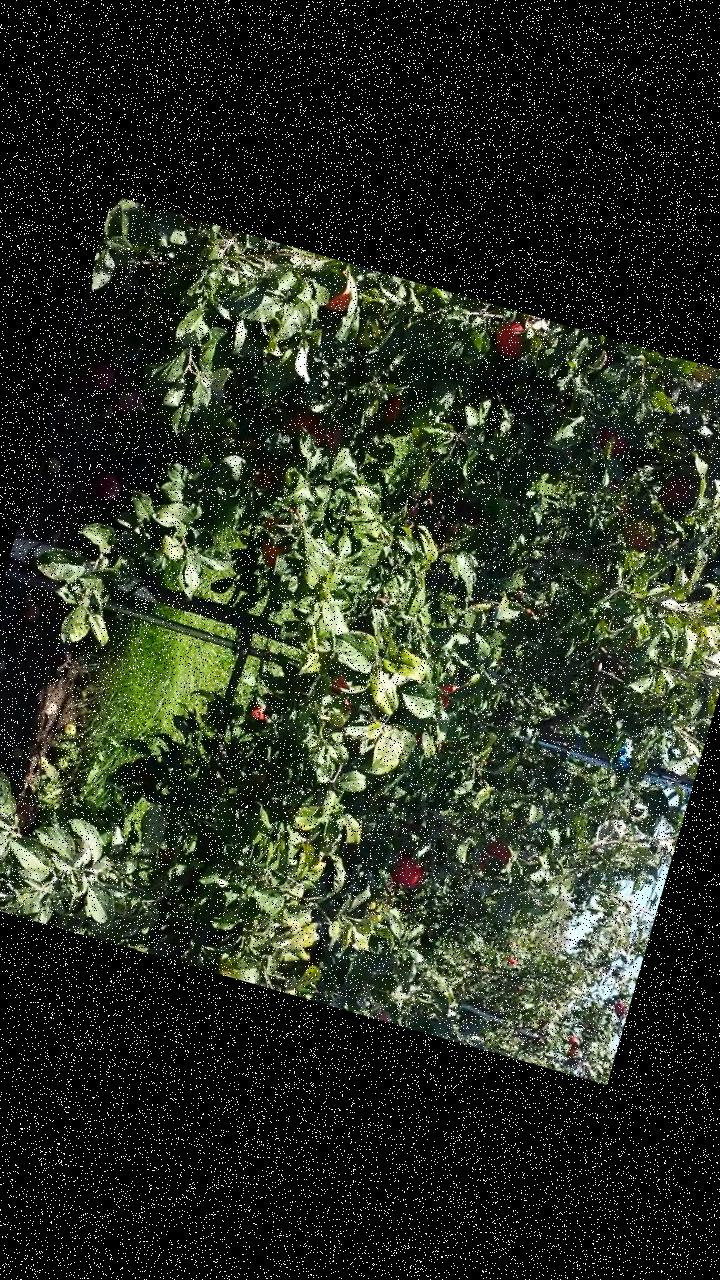Apple: (490, 316, 532, 362), (284, 410, 330, 449), (655, 472, 694, 512), (594, 426, 634, 461), (477, 838, 514, 875), (390, 856, 427, 892), (620, 519, 654, 551), (255, 537, 288, 569), (325, 284, 355, 318), (380, 390, 406, 423), (434, 681, 461, 710), (322, 421, 347, 451), (247, 698, 274, 725), (254, 467, 277, 489), (260, 508, 282, 530), (328, 674, 350, 691), (375, 1010, 393, 1023)
